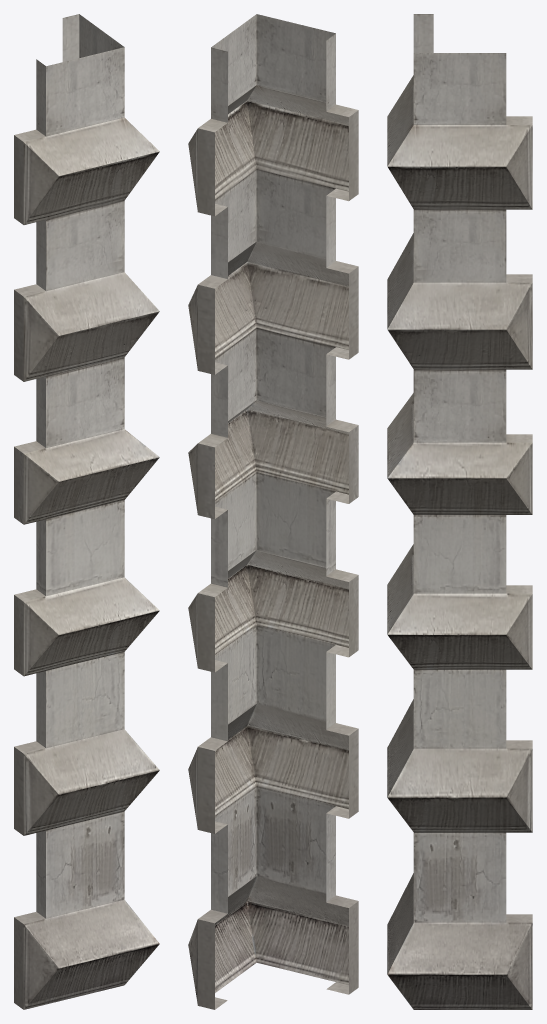
The model's file is WallCorner1B.fbx.
The picture shows the model from 3 angles, left to right: view 1: azimuth 30°, elevation 25°; view 2: azimuth 150°, elevation 25°; view 3: azimuth 270°, elevation 25°; orthographic projection.
Visible parts, largest first — view 1: WallCorner1B; view 2: WallCorner1B; view 3: WallCorner1B.
Boxes of the visible parts, bbox=[...] form: WallCorner1B: bbox=[14, 14, 159, 1009]; WallCorner1B: bbox=[188, 14, 358, 1009]; WallCorner1B: bbox=[387, 14, 532, 1009].
Bounding box in the file's own units: 55 × 400 × 55.
